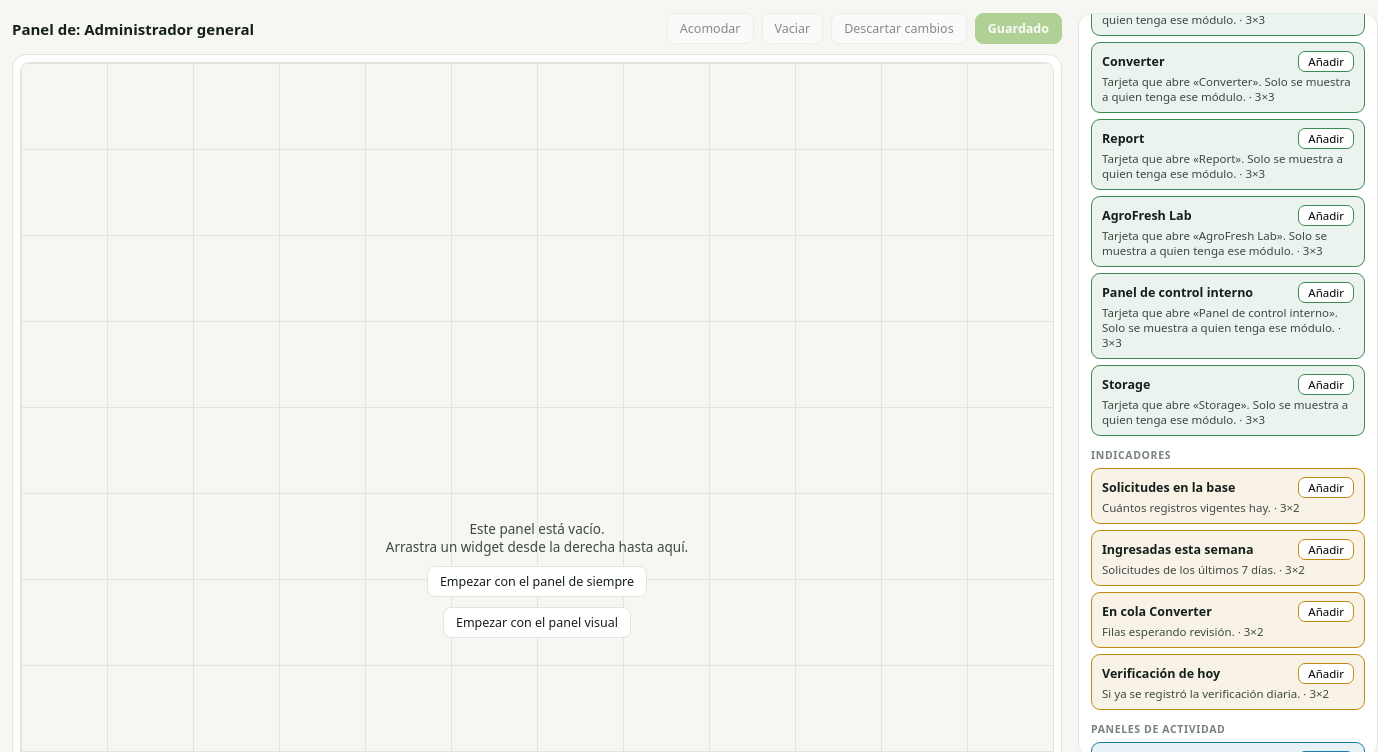
Test: editor del Panel de inicio › un widget ya puesto no se puede poner dos veces
(page scrolled)
expect the text "Este panel está vacío" is shown: met, box [470,520,604,538]
Step 1. Click the button with aria-label "Añadir Storage" → {"x": 1326, "y": 384}, box [1298,374,1354,395]
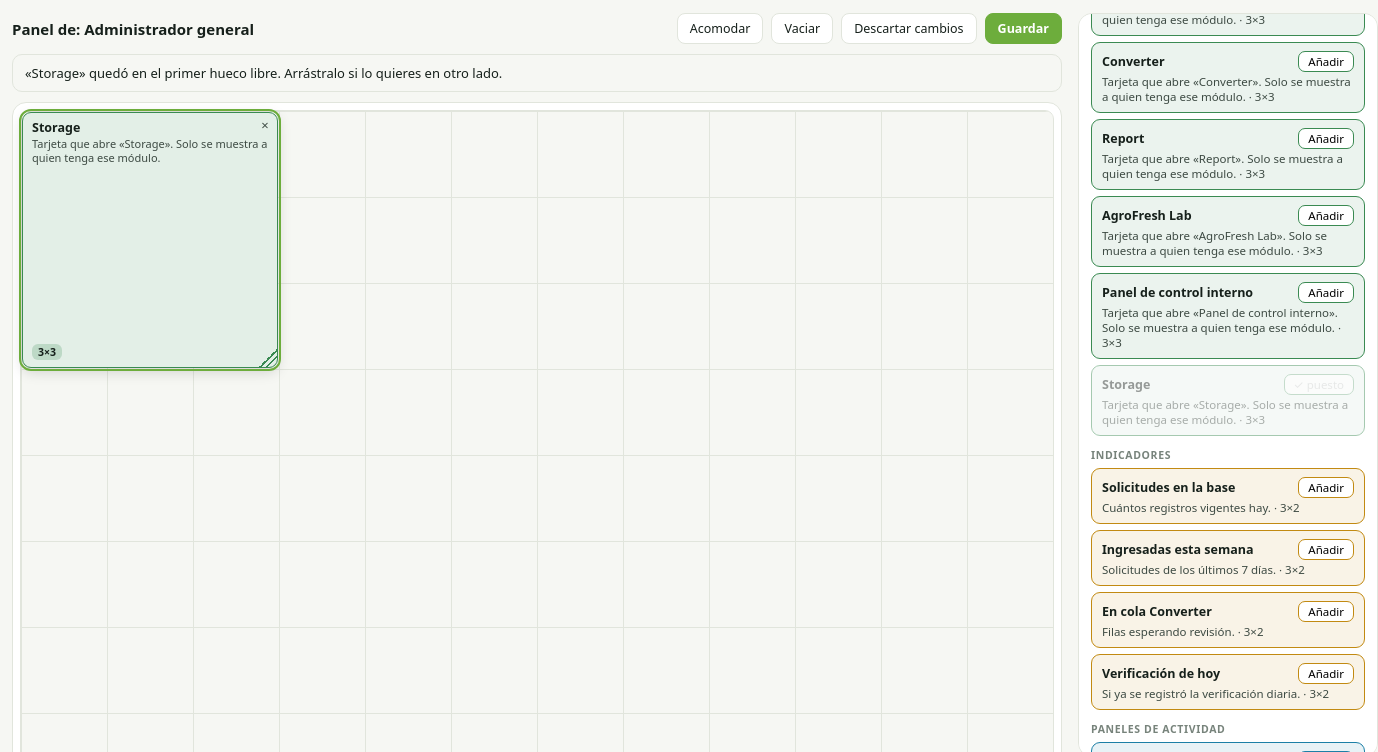
expect the button with aria-label "Añadir Storage" is disabled: met, box [1284,374,1354,395]
